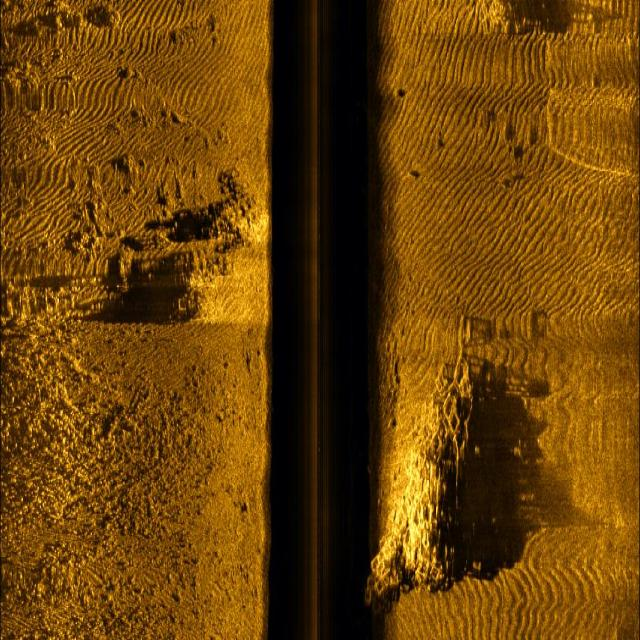artificial reef: (352, 339, 486, 605)
